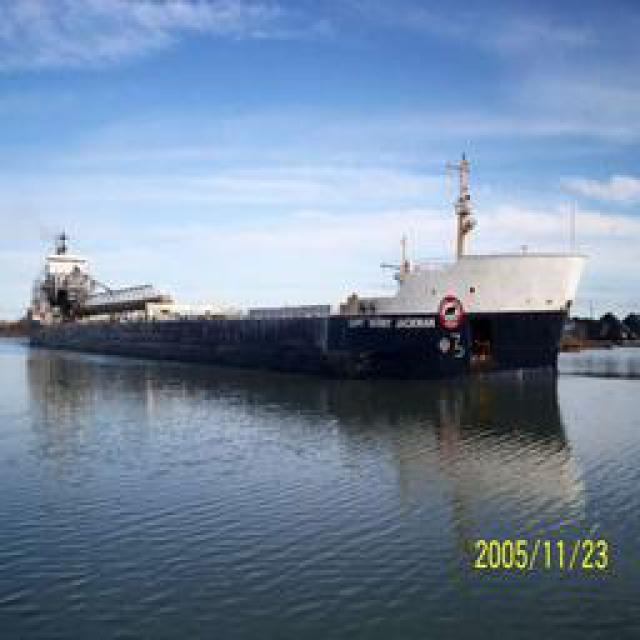Ship: (30, 256, 590, 374)
